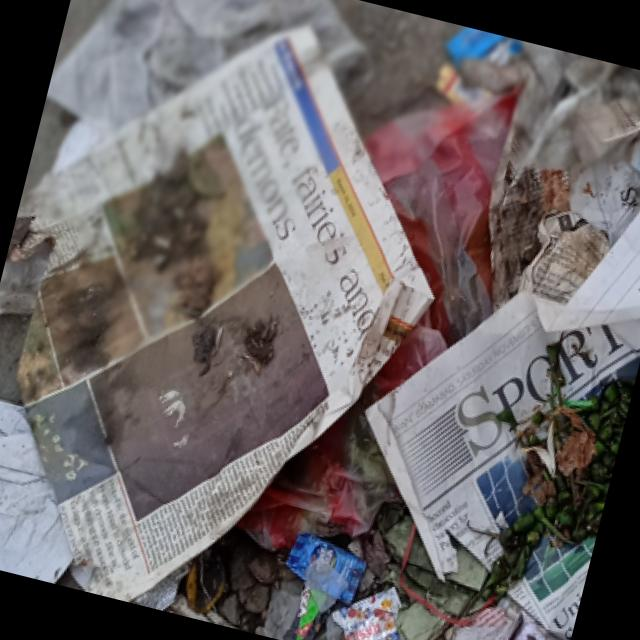electronic: (0, 0, 491, 640), (327, 245, 640, 617), (28, 0, 377, 240), (465, 95, 640, 355), (0, 389, 108, 587), (321, 571, 434, 640), (278, 528, 370, 606)
